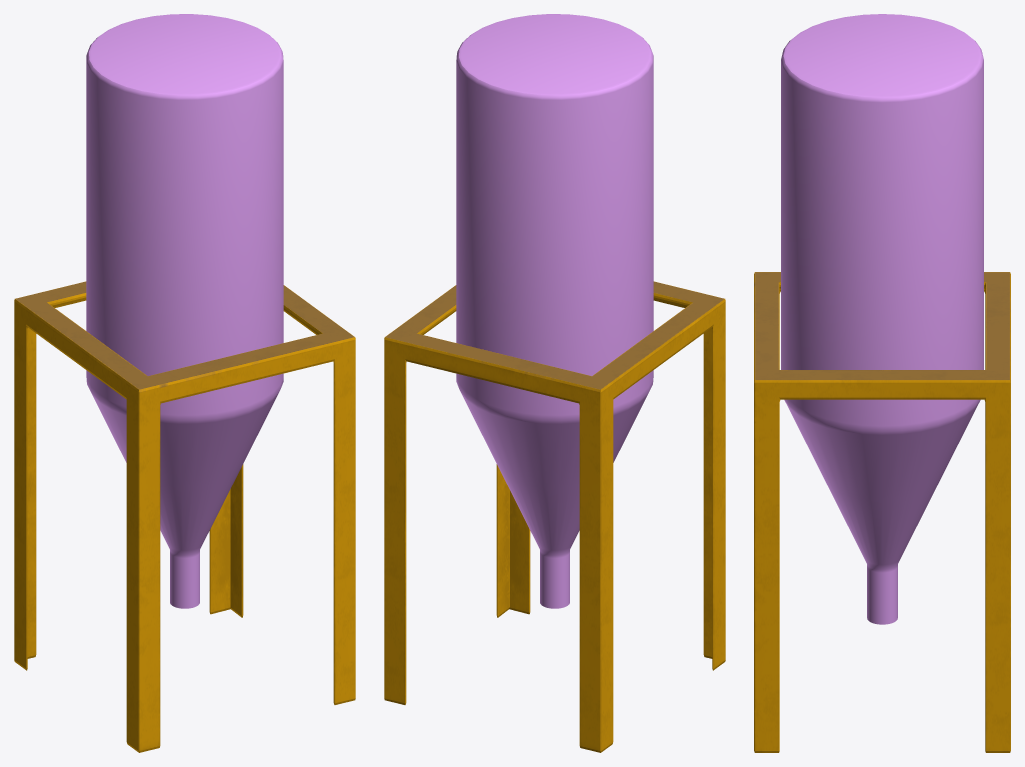
3 renders of one model, left to right at view 1: azimuth 30°, elevation 25°; view 2: azimuth 150°, elevation 25°; view 3: azimuth 270°, elevation 25°, orthographic. The views are drawn at different scales.
Parts seen in each view (by area): view 1: CylinderContainer, measureDummy.001; view 2: CylinderContainer, measureDummy.001; view 3: CylinderContainer, measureDummy.001.
Part boxes in pixels (x1=…): CylinderContainer: x1=86, y1=14, x2=283, y2=608; measureDummy.001: x1=14, y1=281, x2=355, y2=752; CylinderContainer: x1=456, y1=14, x2=653, y2=608; measureDummy.001: x1=384, y1=281, x2=725, y2=752; CylinderContainer: x1=781, y1=14, x2=983, y2=624; measureDummy.001: x1=754, y1=272, x2=1010, y2=752.
Size of the model in its own units: 2.54 by 7 by 2.53.
Materials: 2 (2 with a texture image).
